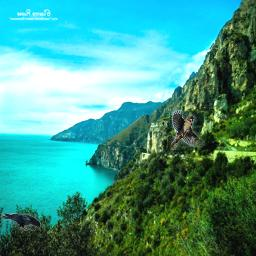Crow: (1, 213, 41, 231)
Sparrow: (171, 110, 205, 150)
